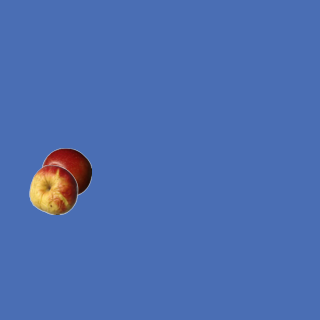Apple Braeburn: (41, 147, 91, 197)
Apple Red Yellow 1: (28, 164, 78, 214)
